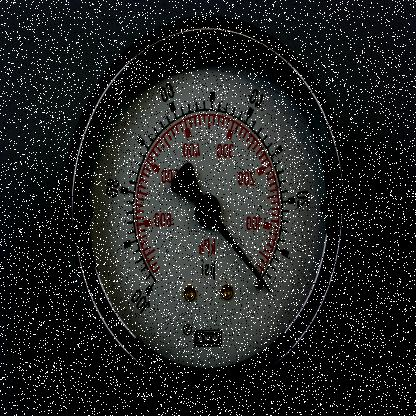needle: (213, 218, 271, 294)
